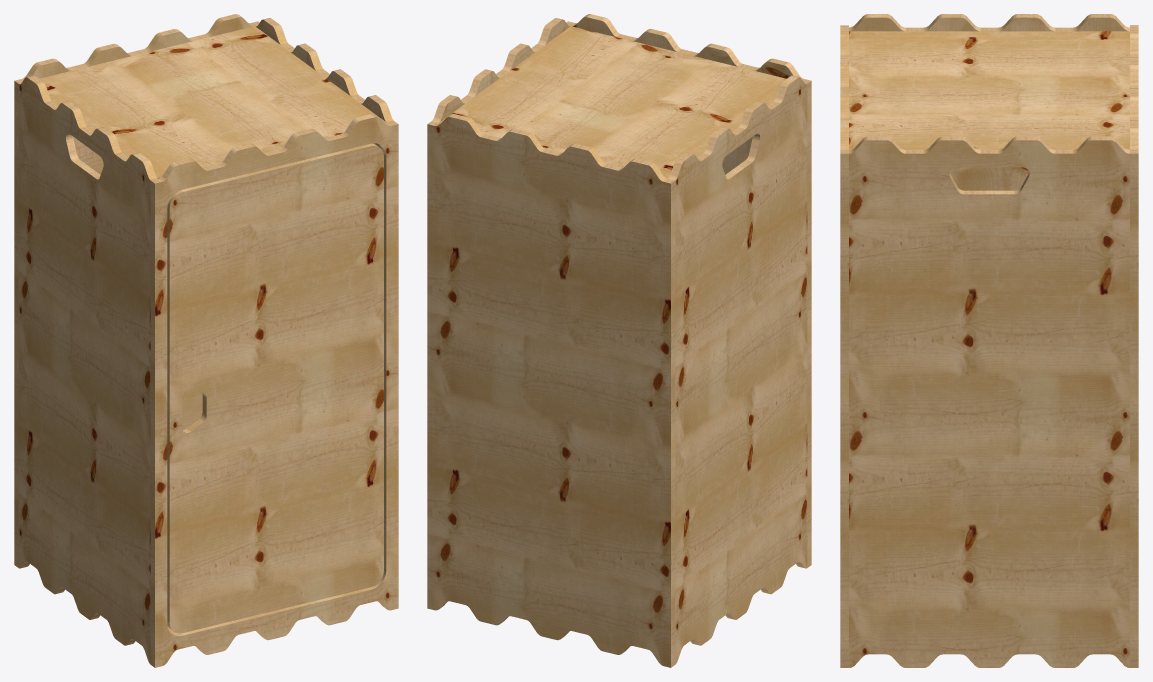
Rendered from two_one_center_scale.glb.
3 renders of one model, left to right at view 1: azimuth 30°, elevation 25°; view 2: azimuth 150°, elevation 25°; view 3: azimuth 270°, elevation 25°, orthographic. The views are drawn at different scales.
Visible parts, largest first — view 1: two_one.center.scale; view 2: two_one.center.scale; view 3: two_one.center.scale.
Part boxes in pixels (left/top/right/bottom): two_one.center.scale: left=14, top=14, right=398, bottom=667; two_one.center.scale: left=427, top=14, right=811, bottom=667; two_one.center.scale: left=840, top=14, right=1138, bottom=667.
Bounding box in the file's own units: 0.5 × 0.975 × 0.5.
1 material, 1 textured.
